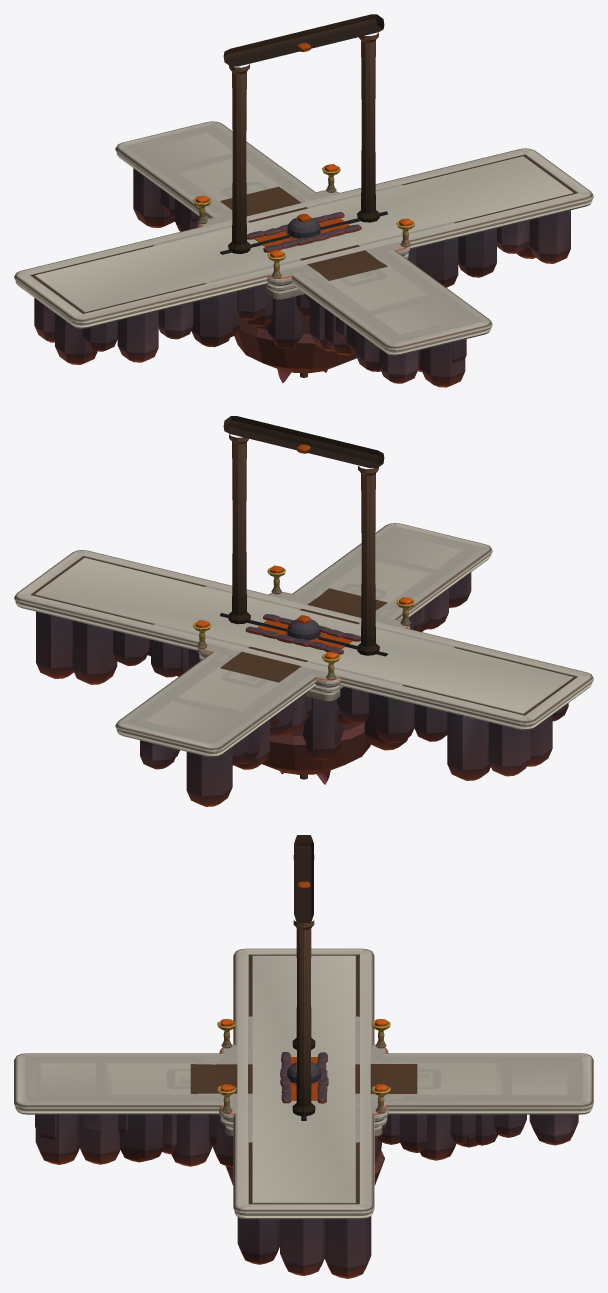
File: volcano-4-BW4u73bC.glb
The picture shows the model from 3 angles, top to bottom: view 1: azimuth 30°, elevation 25°; view 2: azimuth 150°, elevation 25°; view 3: azimuth 270°, elevation 25°; orthographic projection. The views are drawn at different scales.
Parts seen in each view (by area): view 1: block_44x2x10#0, block_9x2x41#1, pressFrame_9x6x4x7#0, block_8x2x40#1, block_8x2x30_grate#0, disc_14x1.5#1, pad_12x2x12#1, beam_5x1.5x16_plank#0, jetVent_8x3#0, block_21.5x2x9#1, barHub_15x1.2#0, pad_12x2x12#0 (+2 smaller); view 2: block_44x2x10#0, block_9x2x41#1, pressFrame_9x6x4x7#0, block_8x2x30_grate#0, block_8x2x40#1, disc_14x1.5#1, pad_12x2x12#1, beam_5x1.5x16_plank#0, jetVent_8x3#0, block_21.5x2x9#1, block_8x2x16#0, pad_12x2x12#0 (+2 smaller); view 3: block_44x2x10#0, block_9x2x41#1, block_8x2x30_grate#0, block_8x2x40#1, pressFrame_9x6x4x7#0, beam_5x1.5x16_plank#0, pad_12x2x12#1, disc_14x1.5#1, jetVent_8x3#0, pad_12x2x12#0, block_4x18x20_ruin#1, block_8x2x16#0 (+1 smaller).
Boxes of the visible parts, bbox=[...] form: block_44x2x10#0: bbox=[14, 148, 593, 364]; block_9x2x41#1: bbox=[115, 121, 492, 383]; pressFrame_9x6x4x7#0: bbox=[223, 14, 384, 253]; block_8x2x40#1: bbox=[128, 126, 479, 387]; block_8x2x30_grate#0: bbox=[163, 151, 444, 355]; disc_14x1.5#1: bbox=[213, 195, 394, 373]; pad_12x2x12#1: bbox=[193, 164, 414, 348]; beam_5x1.5x16_plank#0: bbox=[220, 186, 387, 280]; jetVent_8x3#0: bbox=[247, 212, 361, 252]; block_21.5x2x9#1: bbox=[152, 184, 455, 337]; barHub_15x1.2#0: bbox=[220, 211, 387, 254]; pad_12x2x12#0: bbox=[194, 165, 414, 299]; block_44x2x10#0: bbox=[14, 550, 593, 780]; block_9x2x41#1: bbox=[115, 523, 492, 806]; pressFrame_9x6x4x7#0: bbox=[223, 416, 384, 655]; block_8x2x30_grate#0: bbox=[163, 552, 444, 764]; block_8x2x40#1: bbox=[129, 527, 479, 769]; disc_14x1.5#1: bbox=[213, 596, 394, 774]; pad_12x2x12#1: bbox=[193, 565, 414, 760]; beam_5x1.5x16_plank#0: bbox=[220, 588, 387, 682]; jetVent_8x3#0: bbox=[245, 614, 360, 654]; block_21.5x2x9#1: bbox=[152, 586, 455, 750]; block_8x2x16#0: bbox=[211, 587, 397, 735]; pad_12x2x12#0: bbox=[193, 567, 413, 744]; block_44x2x10#0: bbox=[233, 948, 374, 1278]; block_9x2x41#1: bbox=[14, 1053, 593, 1167]; block_8x2x30_grate#0: bbox=[96, 1057, 511, 1160]; block_8x2x40#1: bbox=[25, 1057, 582, 1164]; pressFrame_9x6x4x7#0: bbox=[292, 835, 315, 1115]; beam_5x1.5x16_plank#0: bbox=[190, 1064, 417, 1093]; pad_12x2x12#1: bbox=[217, 1019, 390, 1136]; disc_14x1.5#1: bbox=[217, 1045, 390, 1185]; jetVent_8x3#0: bbox=[280, 1052, 328, 1103]; pad_12x2x12#0: bbox=[217, 1019, 390, 1135]; block_4x18x20_ruin#1: bbox=[166, 1069, 441, 1089]; block_8x2x16#0: bbox=[195, 1057, 412, 1101].
Size of the model in its own units: 44 by 27.75 by 41.
